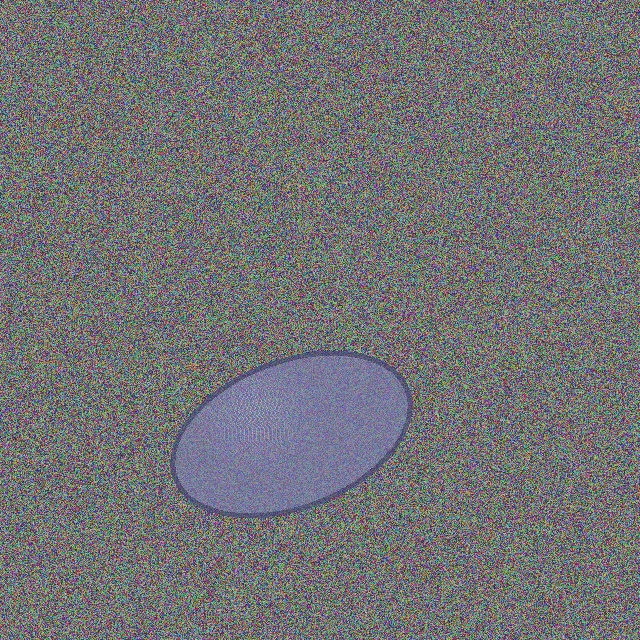lens: (172, 353, 410, 515)
